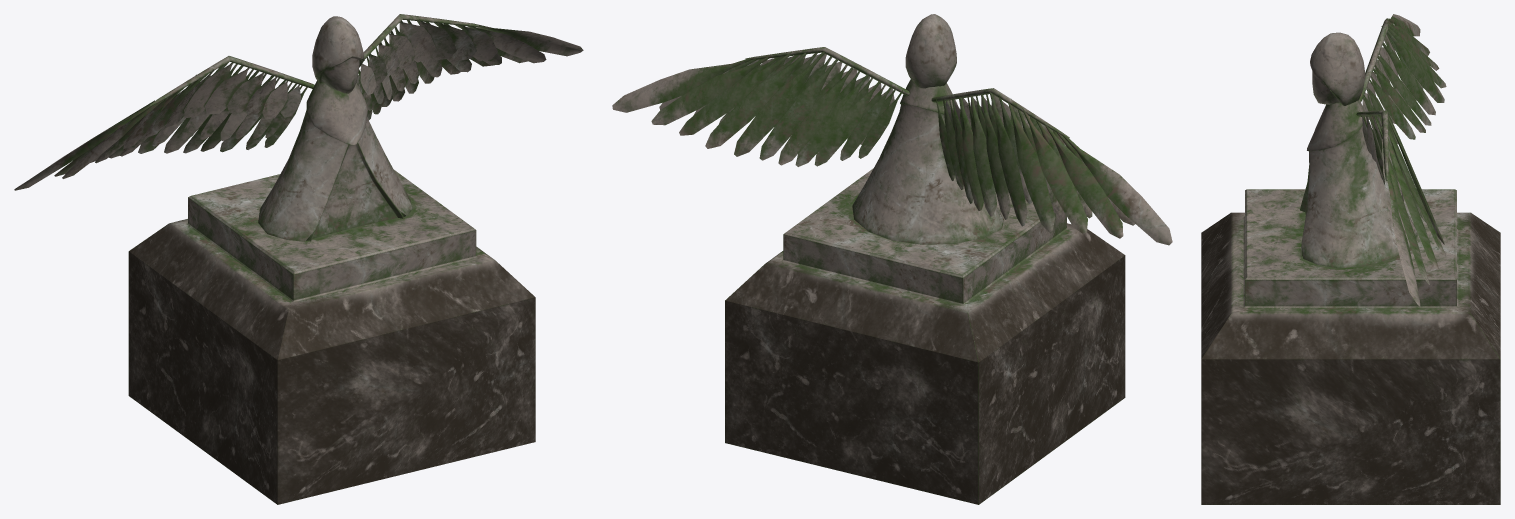
Rendered from statue2.fbx.
3 views of the same model, side by side, from view 1: azimuth 30°, elevation 25°; view 2: azimuth 150°, elevation 25°; view 3: azimuth 270°, elevation 25° (orthographic). The views are drawn at different scales.
Parts seen in each view (by area): view 1: pPlane121; view 2: pPlane121; view 3: pPlane121.
Part boxes in pixels (bbox=[...]): pPlane121: bbox=[14, 14, 583, 504]; pPlane121: bbox=[612, 14, 1172, 504]; pPlane121: bbox=[1201, 14, 1500, 504].
Size of the model in its own units: 38.5 by 26.26 by 17.44.
Materials: 1 (1 with a texture image).
